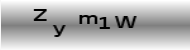1: (97, 16, 111, 30)
W: (114, 14, 138, 28)
Z: (32, 8, 48, 22)
m: (78, 14, 99, 24)
y: (51, 23, 66, 37)
